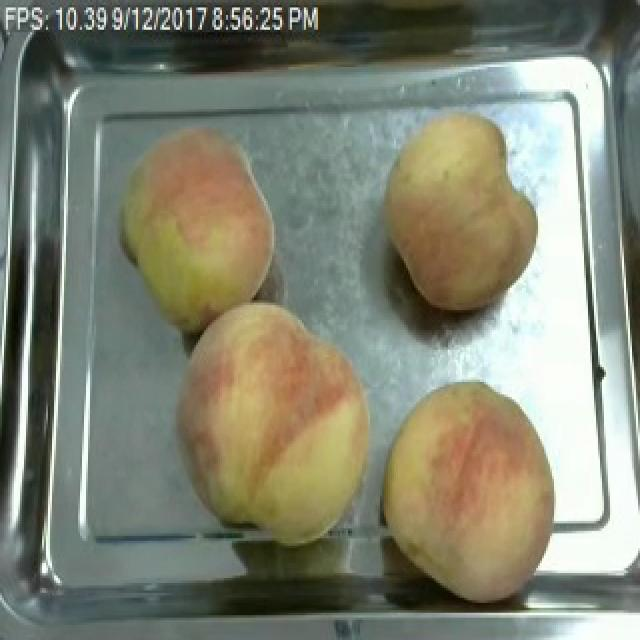Fruit: (168, 292, 384, 550), (370, 370, 566, 612), (110, 114, 286, 340), (374, 101, 548, 318)
